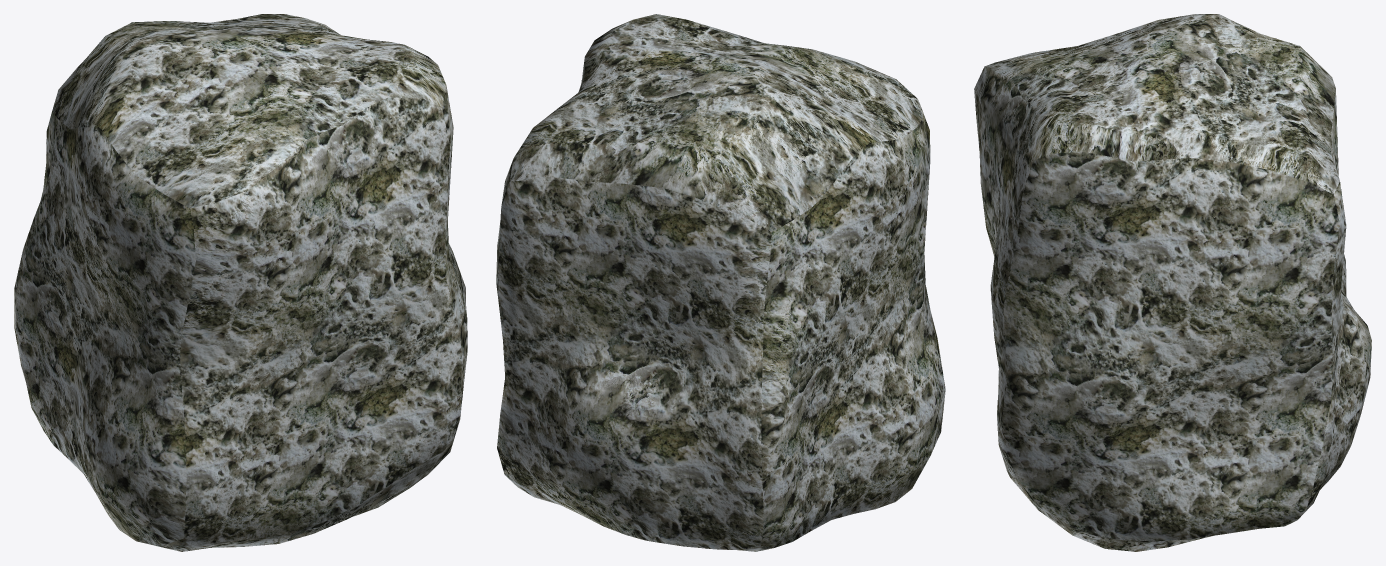
Rendered from rock_med.fbx.
3 renders of one model, left to right at view 1: azimuth 30°, elevation 25°; view 2: azimuth 150°, elevation 25°; view 3: azimuth 270°, elevation 25°, orthographic. The views are drawn at different scales.
Parts seen in each view (by area): view 1: rock_med; view 2: rock_med; view 3: rock_med.
Part boxes in pixels (<box>): rock_med: <box>14,14,467,551</box>; rock_med: <box>496,14,945,551</box>; rock_med: <box>974,14,1371,551</box>.
Bounding box in the file's own units: 0.7421 × 0.9104 × 0.7172.
1 material, 1 textured.
